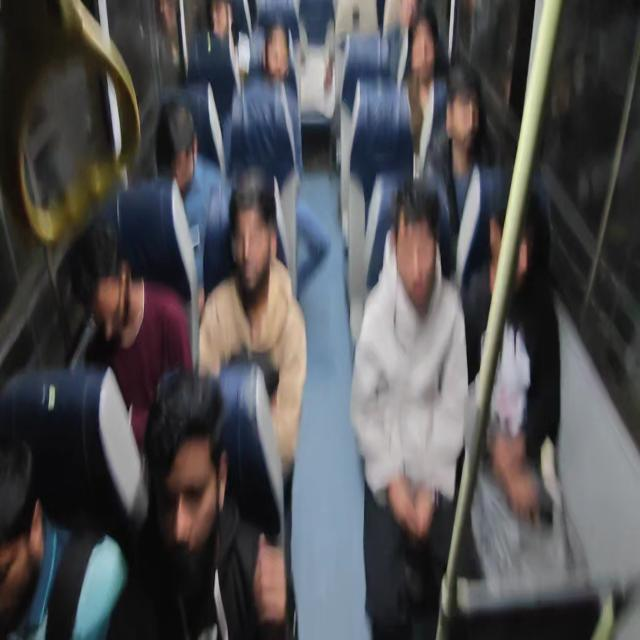person: (144, 380, 242, 578), (0, 416, 54, 640), (228, 174, 288, 318), (382, 183, 440, 313), (68, 230, 134, 340), (486, 178, 540, 297), (153, 97, 201, 192), (442, 60, 481, 156), (406, 5, 439, 90), (266, 20, 297, 82), (204, 0, 236, 40)
